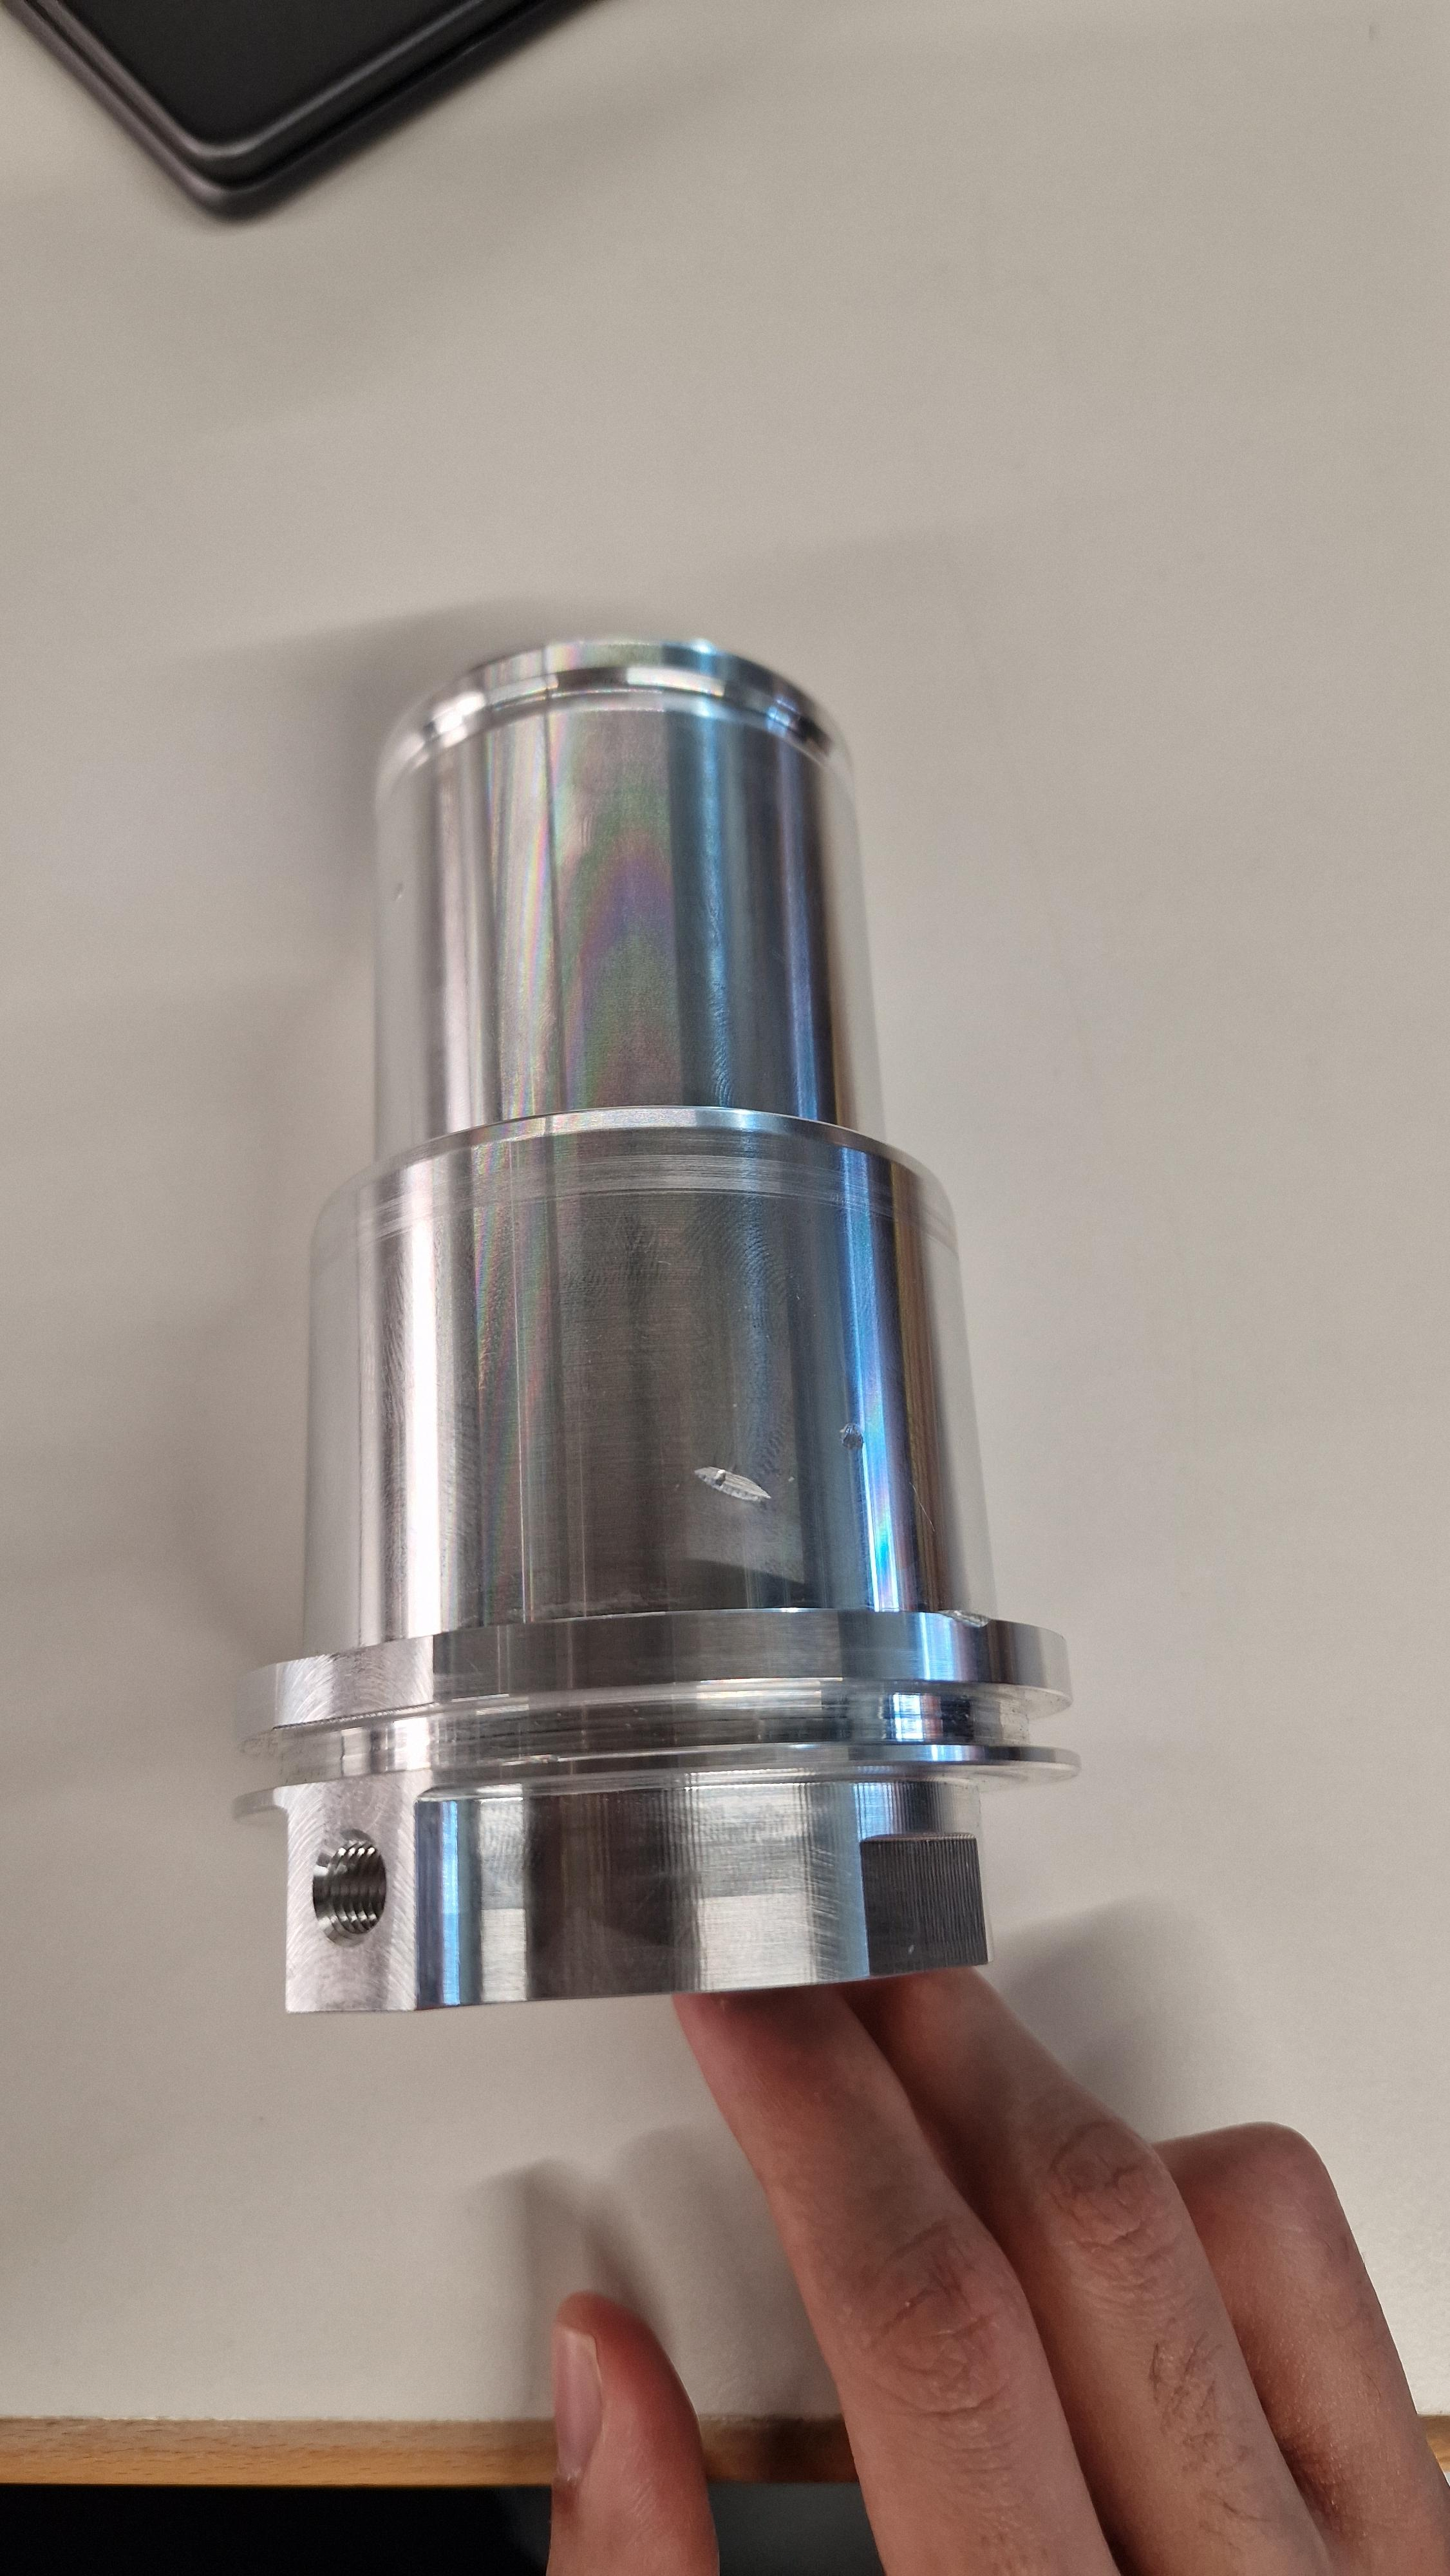damage: (692, 1462, 782, 1508), (901, 1478, 939, 1541), (934, 1605, 1001, 1634), (834, 1414, 871, 1455), (389, 883, 409, 905)
objects: (213, 617, 1086, 2055)
